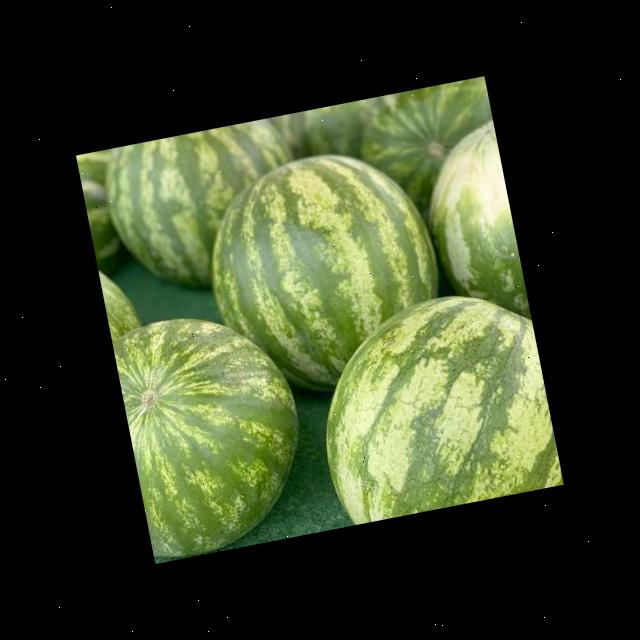watermelon: (192, 136, 459, 413), (299, 280, 564, 528), (110, 298, 322, 564), (99, 114, 317, 306), (350, 78, 512, 248), (409, 120, 531, 336), (299, 98, 382, 171), (76, 150, 125, 270), (98, 262, 143, 342)
